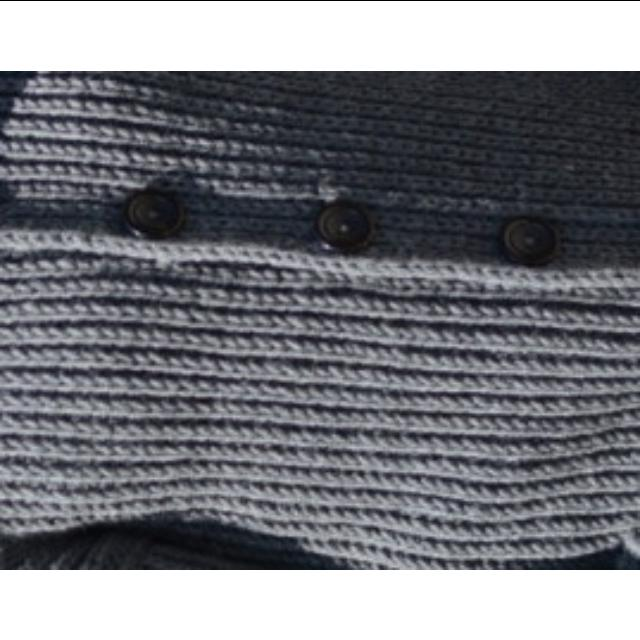wool: (0, 70, 640, 570)
